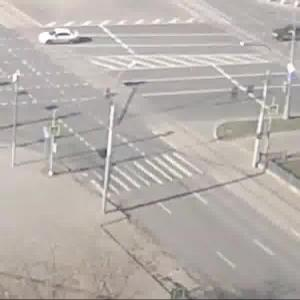car: (43, 28, 80, 46)
